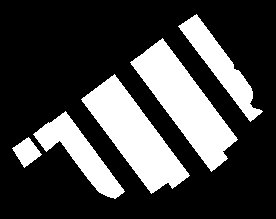parkingspot: (130, 50, 227, 171), (97, 74, 189, 188), (146, 38, 237, 152), (81, 86, 167, 193), (178, 14, 262, 121), (48, 111, 124, 198), (12, 137, 41, 167), (33, 122, 60, 151)
